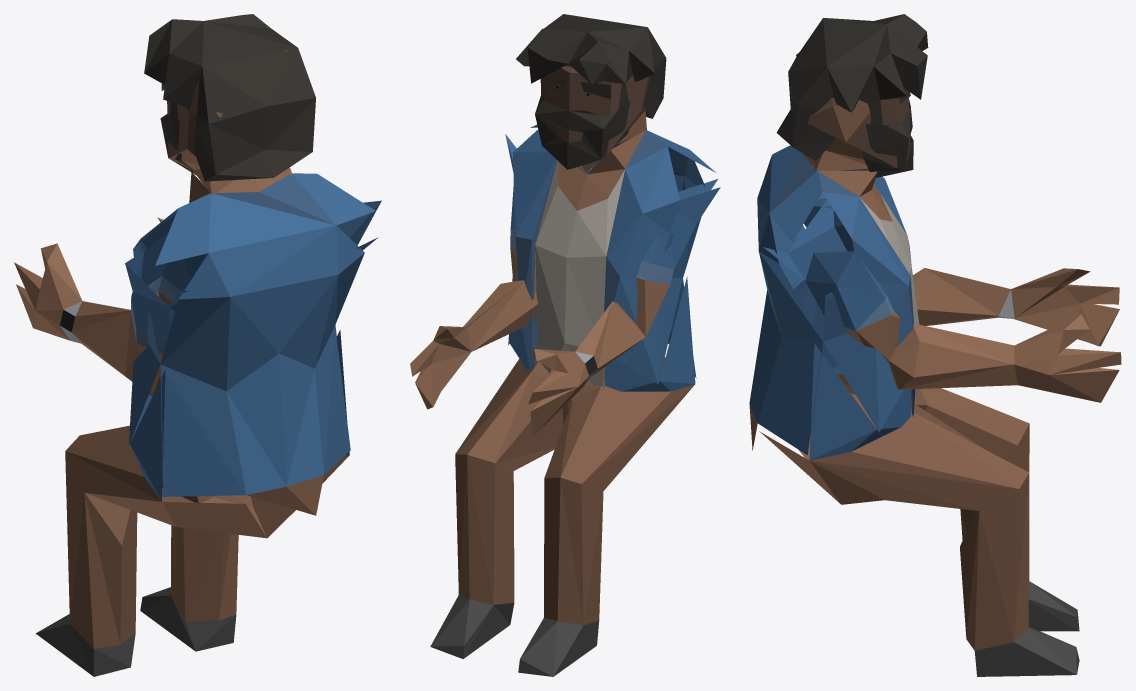
Rendered from Seated_OldLegionfriend.obj.
3 renders of one model, left to right at view 1: azimuth 30°, elevation 25°; view 2: azimuth 150°, elevation 25°; view 3: azimuth 270°, elevation 25°, orthographic. The views are drawn at different scales.
Visible parts, largest first — view 1: Seated_OldLegionfriend; view 2: Seated_OldLegionfriend; view 3: Seated_OldLegionfriend.
Boxes of the visible parts, x1,y1,x2,y2 form: Seated_OldLegionfriend: (14,14,381,676); Seated_OldLegionfriend: (410,14,720,676); Seated_OldLegionfriend: (749,14,1121,676).
Bounding box in the file's own units: 0.5868 × 1.48 × 0.8086.
Materials: 1 (1 with a texture image).
